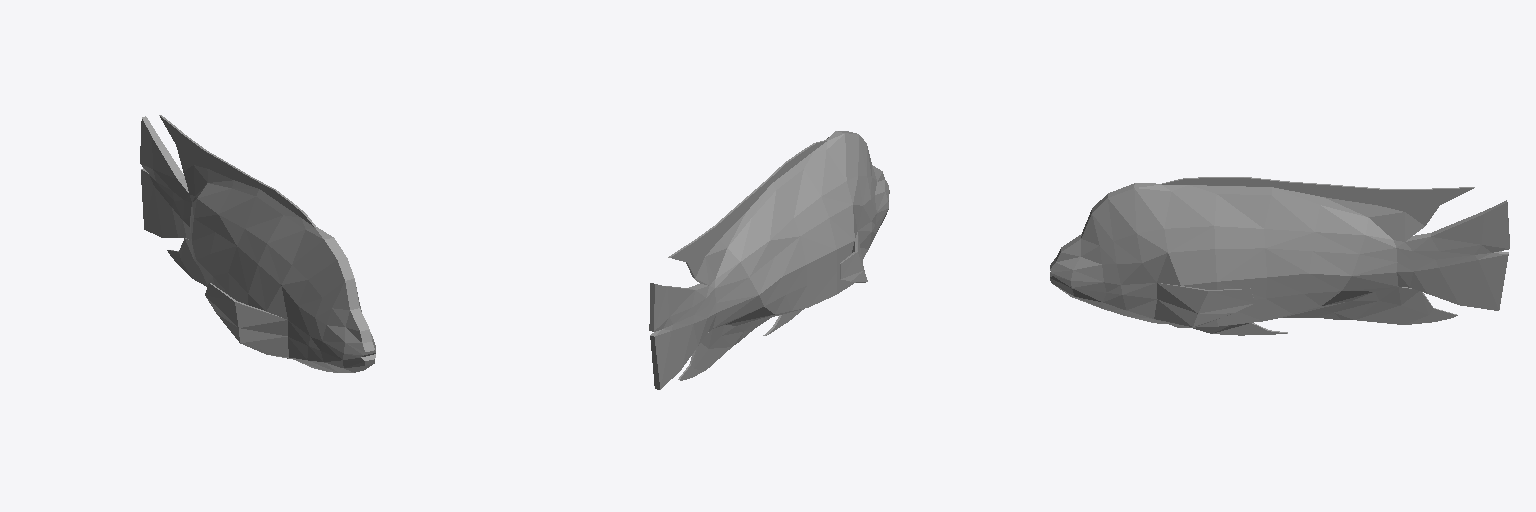
The model's file is TropicalFish09.obj.
3 renders of one model, left to right at view 1: azimuth 30°, elevation 25°; view 2: azimuth 150°, elevation 25°; view 3: azimuth 270°, elevation 25°, orthographic.
Visible parts, largest first — view 1: TropicalFish09; view 2: TropicalFish09; view 3: TropicalFish09.
Boxes of the visible parts, <box> form: TropicalFish09: <box>140,115,375,372</box>; TropicalFish09: <box>649,131,889,389</box>; TropicalFish09: <box>1050,177,1509,335</box>.
Bounding box in the file's own units: 153 × 188 × 495.